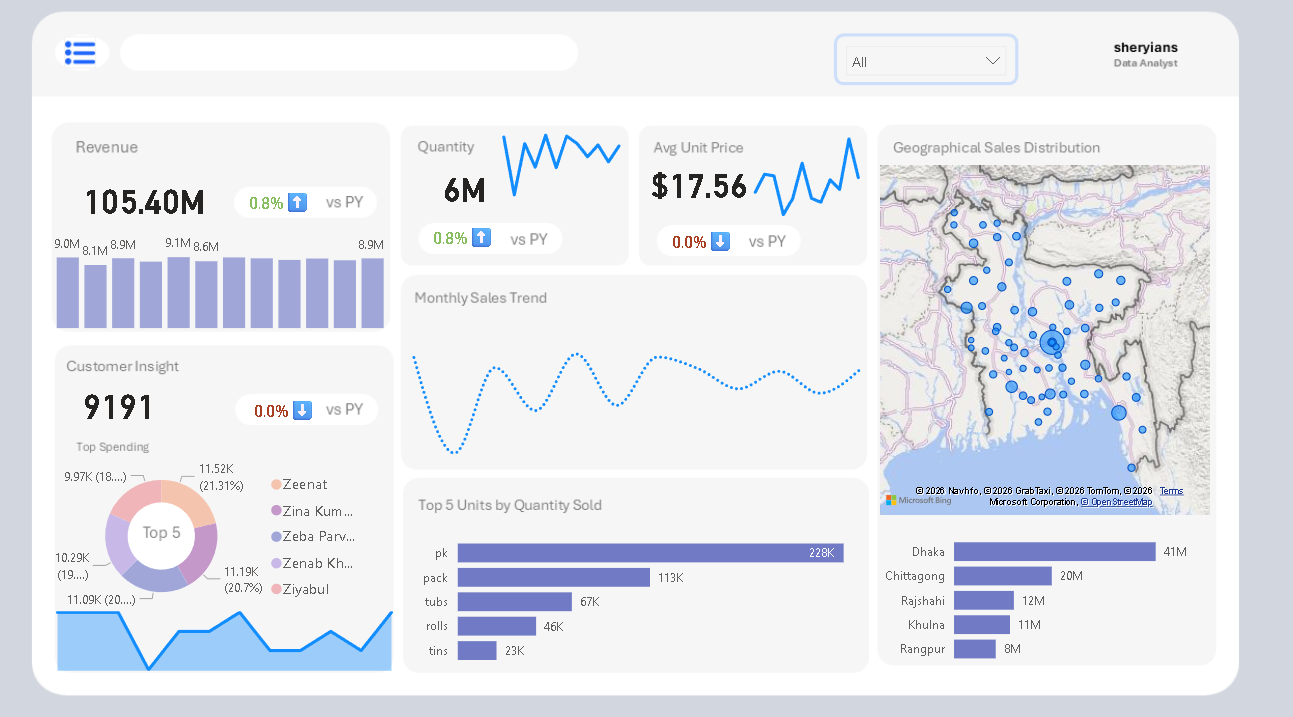

Layout of this report page (visuals, bound fields, positions):
{"tool":"powerbi","page":{"name":"Year wise Analysis","canvas":[1280,720],"ordinal":0},"visuals":[{"type":"card","fields":{"Values":["DAX MEASURES.TOTAL SALES"]},"box":[80.1,162.9,171.3,92.2],"z":0},{"type":"card","fields":{"Values":["DAX MEASURES.% YOY SALES"]},"box":[249.5,196.5,93.1,33.5],"z":1000},{"type":"columnChart","fields":{"Category":["time_dim.month"],"Y":["DAX MEASURES.TOTAL SALES"]},"box":[47.9,230,354.3,108.8],"z":2000},{"type":"slicer","fields":{"Values":["time_dim.year"]},"box":[832.4,50.3,175,48.4],"z":3000},{"type":"card","fields":{"Values":["DAX MEASURES.TOTAL QTY"]},"box":[388.2,150.8,171.3,92.2],"z":4000},{"type":"card","fields":{"Values":["DAX MEASURES.AVG UNIT PRICE"]},"box":[615.4,147.1,171.3,92.2],"z":5000},{"type":"card","fields":{"Values":["DAX MEASURES.% YOY QTY"]},"box":[427.4,230,93.1,33.5],"z":6000},{"type":"card","fields":{"Values":["DAX MEASURES.% YOY AVG PRICE"]},"box":[657.3,233.7,93.1,33.5],"z":7000},{"type":"lineChart","fields":{"Category":["time_dim.month"],"Y":["DAX MEASURES.TOTAL QTY"]},"box":[487.9,130.3,181.6,99.6],"z":8000},{"type":"lineChart","fields":{"Category":["time_dim.month"],"Y":["DAX MEASURES.AVG UNIT PRICE"]},"box":[730.9,111.7,165.7,118.2],"z":9000},{"type":"card","fields":{"Values":["DAX MEASURES.CUSTOMERS"]},"box":[55.9,360.3,171.3,92.2],"z":10000},{"type":"card","fields":{"Values":["DAX MEASURES.% YOY CUSTOMER"]},"box":[254.2,396.6,93.1,33.5],"z":11000},{"type":"donutChart","fields":{"Category":["customer_dim.name"],"Y":["DAX MEASURES.TOTAL SALES"]},"box":[72.6,455.3,310,158.3],"z":12000},{"type":"stackedAreaChart","fields":{"Category":["time_dim.month"],"Y":["DAX MEASURES.CUSTOMERS"]},"box":[37.2,593.1,381.7,75.4],"z":13000},{"type":"lineChart","fields":{"Category":["time_dim.month"],"Y":["DAX MEASURES.TOTAL SALES"]},"box":[371.5,304.5,500,162.9],"z":14000},{"type":"barChart","fields":{"Y":["DAX MEASURES.TOTAL QTY"],"Category":["fact_table.unit"]},"box":[427.4,518.6,444.1,149.9],"z":15000},{"type":"map","fields":{"Size":["DAX MEASURES.TOTAL SALES"],"Category":["store_dim.store_location"]},"box":[871.5,171.3,327.7,347.3],"z":16000},{"type":"barChart","fields":{"Category":["store_dim.division"],"Y":["DAX MEASURES.TOTAL SALES"]},"box":[870.8,517.6,328.8,149.6],"z":17000}]}

Visuals, with their boxes in screenshot pixels (x1, y1, x2, y2), scaled from the page's 1280x720 canvas onto the 1293x717 screenshot:
card - DAX MEASURES.TOTAL SALES: 81:162:254:254
card - DAX MEASURES.% YOY SALES: 252:196:346:229
columnChart - time_dim.month x DAX MEASURES.TOTAL SALES: 48:229:406:337
slicer - time_dim.year: 841:50:1018:98
card - DAX MEASURES.TOTAL QTY: 392:150:565:242
card - DAX MEASURES.AVG UNIT PRICE: 622:146:795:238
card - DAX MEASURES.% YOY QTY: 432:229:526:262
card - DAX MEASURES.% YOY AVG PRICE: 664:233:758:266
lineChart - time_dim.month x DAX MEASURES.TOTAL QTY: 493:130:676:229
lineChart - time_dim.month x DAX MEASURES.AVG UNIT PRICE: 738:111:906:229
card - DAX MEASURES.CUSTOMERS: 56:359:230:451
card - DAX MEASURES.% YOY CUSTOMER: 257:395:351:428
donutChart - customer_dim.name x DAX MEASURES.TOTAL SALES: 73:453:386:611
stackedAreaChart - time_dim.month x DAX MEASURES.CUSTOMERS: 38:591:423:666
lineChart - time_dim.month x DAX MEASURES.TOTAL SALES: 375:303:880:465
barChart - DAX MEASURES.TOTAL QTY x fact_table.unit: 432:516:880:666
map - DAX MEASURES.TOTAL SALES x store_dim.store_location: 880:171:1211:516
barChart - store_dim.division x DAX MEASURES.TOTAL SALES: 880:515:1212:664
